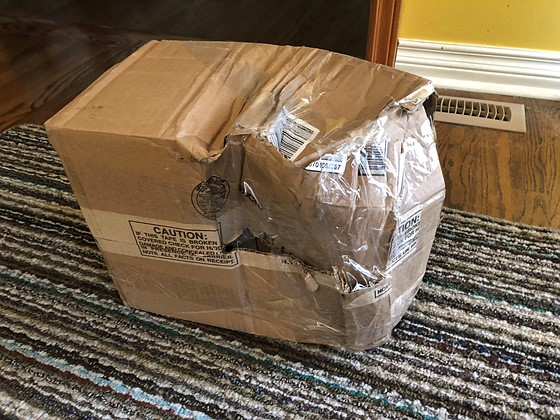damaged package: (185, 108, 393, 287)
